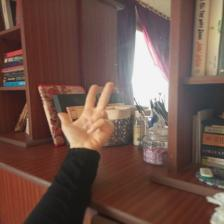three: (46, 78, 131, 164)
